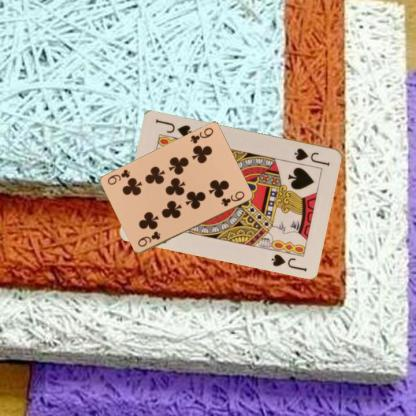9c: (188, 125, 214, 145), (135, 229, 162, 248)
Js: (292, 145, 331, 168)
